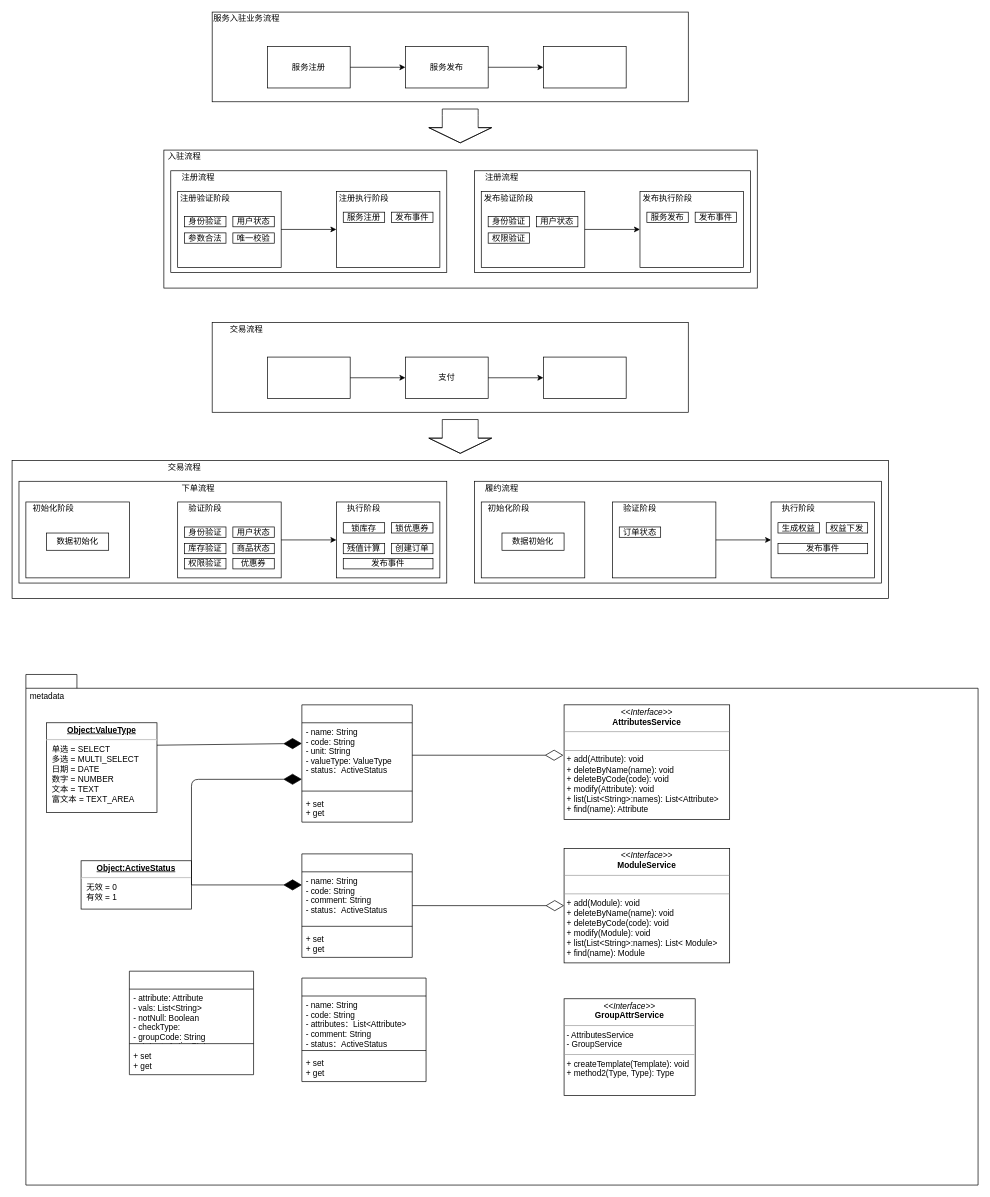
Some shapes in this 990 by 1197 pixel diagram are drawn without their labels. The box of each missing label's shape, as (x1, y1, x2, y2) in pixels:
Attribute: (301, 704, 412, 822)
AttrValue: (129, 970, 254, 1075)
Group: (301, 977, 426, 1082)
Module: (301, 853, 412, 957)
下单: (267, 356, 350, 398)
履约: (543, 356, 626, 398)
服务审核: (543, 46, 626, 88)
